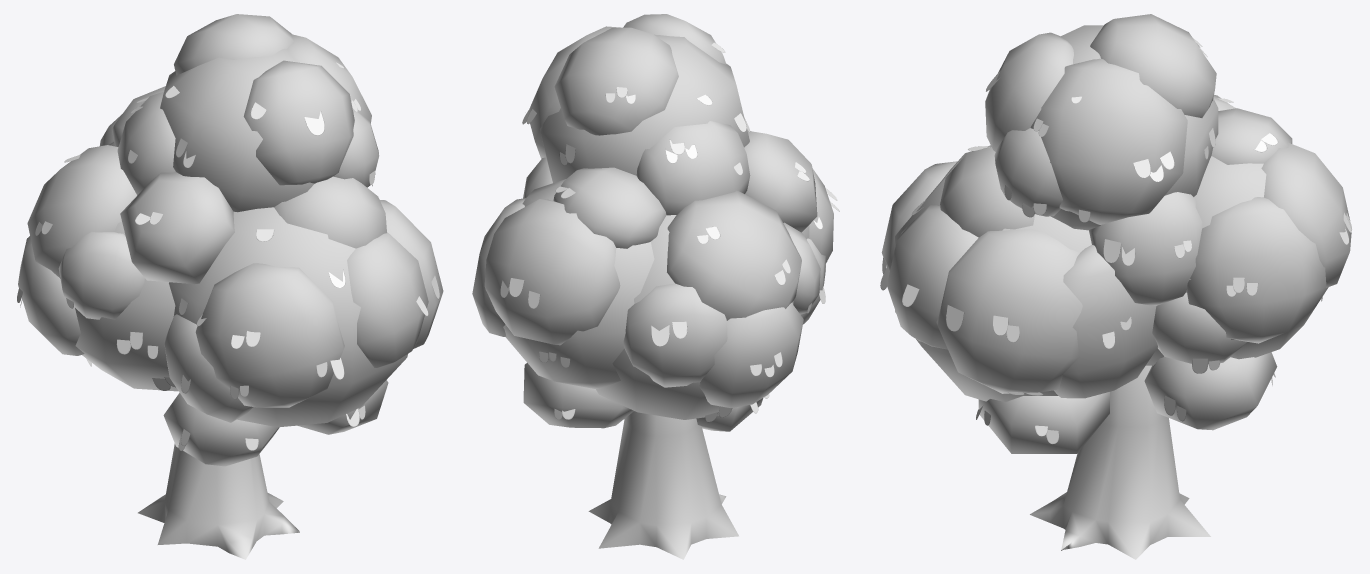
Rendered from F_Tree.fbx.
The picture shows the model from 3 angles, left to right: view 1: azimuth 30°, elevation 25°; view 2: azimuth 150°, elevation 25°; view 3: azimuth 270°, elevation 25°; orthographic projection. The views are drawn at different scales.
Visible parts, largest first — view 1: Sphere, Object002, Leaf; view 2: Sphere, Object002, Leaf; view 3: Sphere, Object002, Leaf.
Boxes of the visible parts, bbox=[...] form: Sphere: bbox=[18, 14, 443, 466]; Object002: bbox=[138, 443, 299, 559]; Leaf: bbox=[17, 62, 439, 450]; Sphere: bbox=[472, 14, 833, 431]; Object002: bbox=[588, 411, 738, 559]; Leaf: bbox=[500, 42, 839, 422]; Sphere: bbox=[881, 14, 1351, 453]; Object002: bbox=[1030, 365, 1210, 559]; Leaf: bbox=[880, 38, 1351, 444].
Size of the model in its own units: 2007 by 2927 by 2466.
